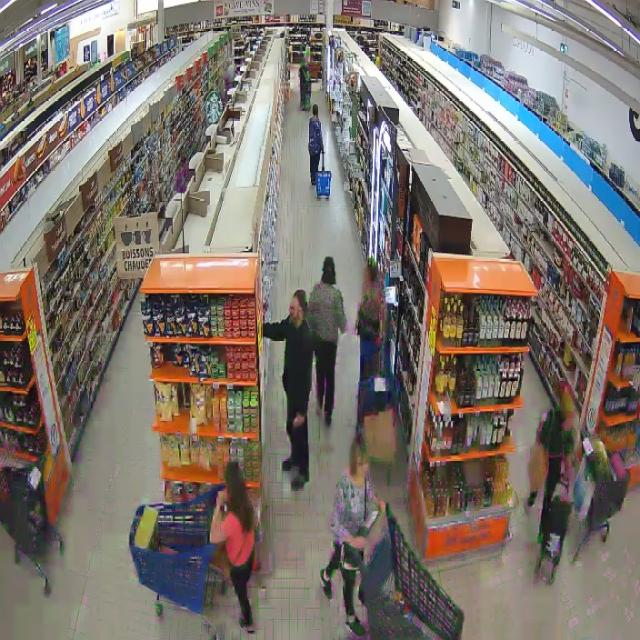hands: (350, 537, 367, 550), (217, 491, 226, 507), (293, 414, 304, 427), (378, 498, 386, 512), (376, 337, 381, 348)
person: (321, 434, 385, 637), (263, 290, 313, 488), (211, 462, 255, 633), (307, 257, 345, 426), (536, 386, 575, 538), (357, 257, 384, 380)
